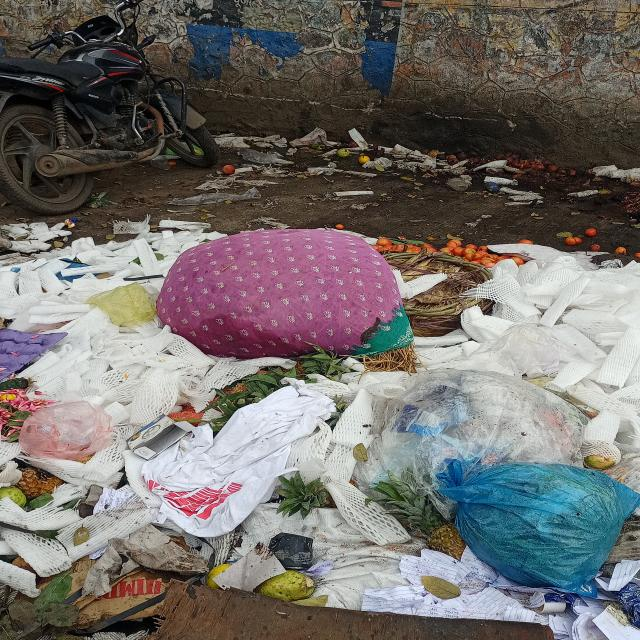garbage: (0, 228, 640, 640)
